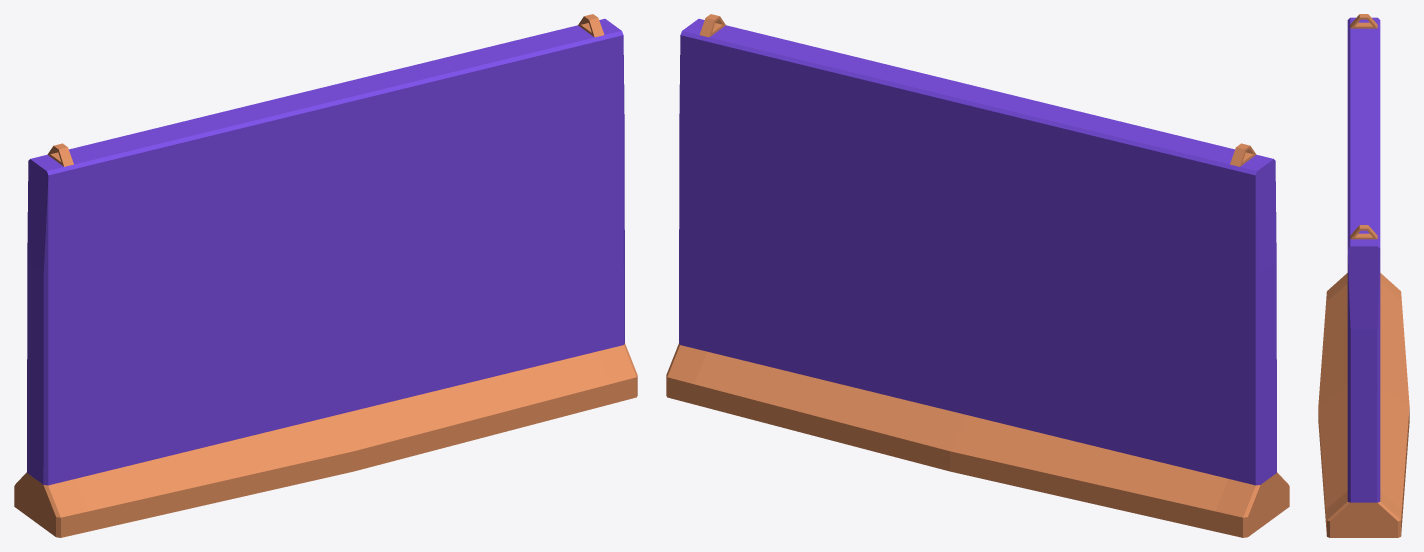
The model's file is DefenceWall.fbx.
3 views of the same model, side by side, from view 1: azimuth 30°, elevation 25°; view 2: azimuth 150°, elevation 25°; view 3: azimuth 270°, elevation 25° (orthographic). The views are drawn at different scales.
Visible parts, largest first — view 1: DefenceWall; view 2: DefenceWall; view 3: DefenceWall.
Boxes of the visible parts, <box> form: DefenceWall: <box>14,14,637,537</box>; DefenceWall: <box>666,14,1289,537</box>; DefenceWall: <box>1318,14,1409,537</box>.
Bounding box in the file's own units: 1162 × 705 × 194.
